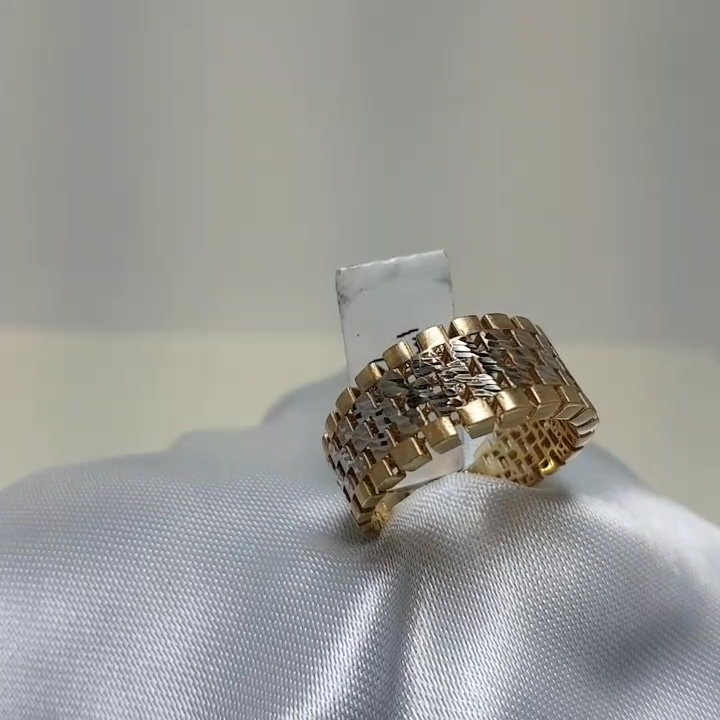Ring 1: (311, 287, 602, 562)
